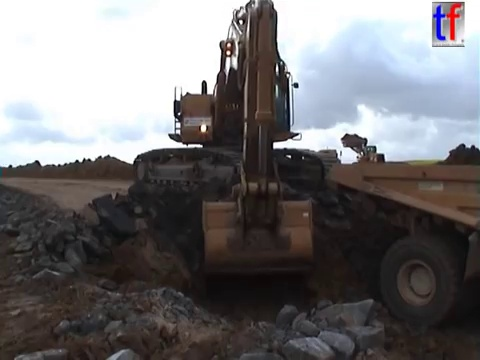excavator: (129, 1, 342, 280)
truck: (322, 159, 480, 331)
wheel loader: (339, 132, 389, 171)
